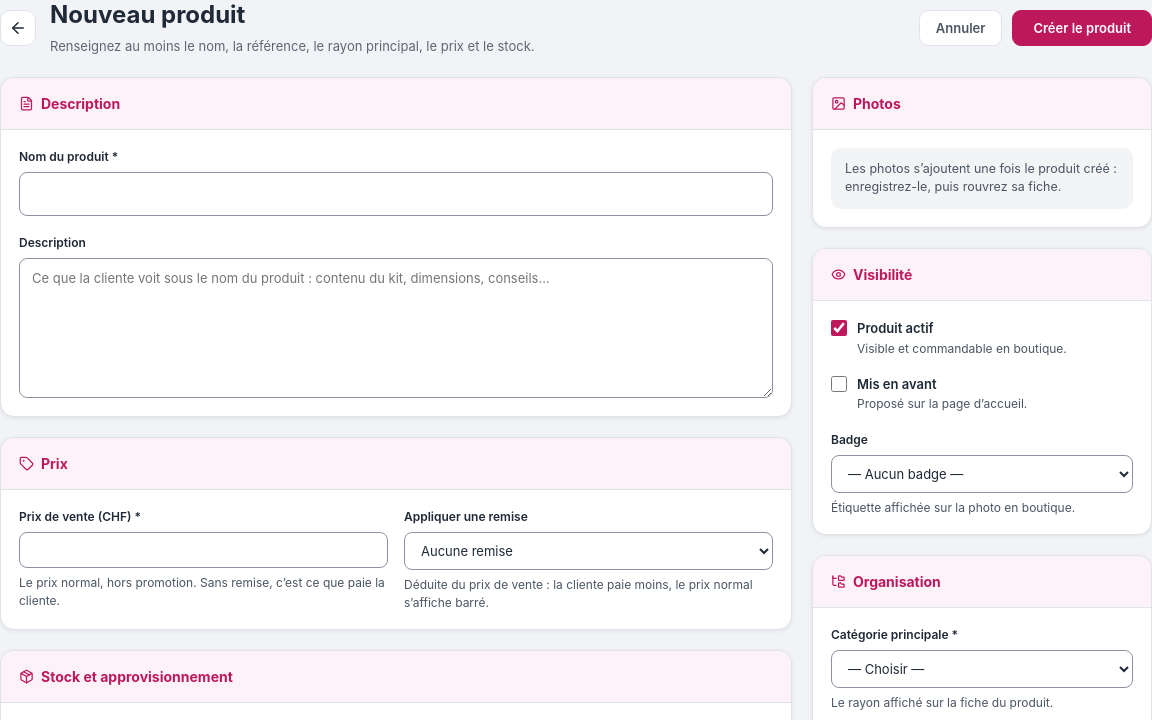
ProductForm — aperçu boutique › déduit le prix payé du prix de vente avec une réduction en montant fixe
The width and height of the screenshot is (1152, 720).
Type "100" into the number field labelled "Prix de vente (CHF) *" at (204, 550), box x1=19 y1=532 x2=388 y2=568
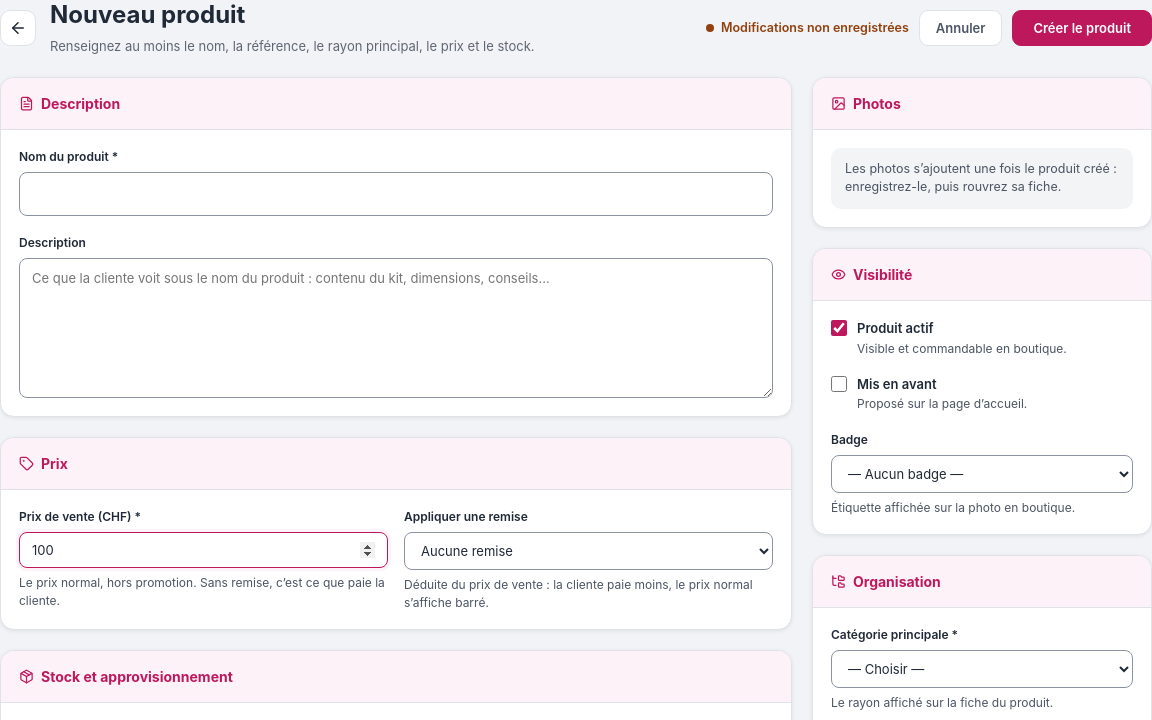
Select "Remise en CHF" in the dropdown labelled "Appliquer une remise" at (588, 551), box x1=404 y1=532 x2=773 y2=570
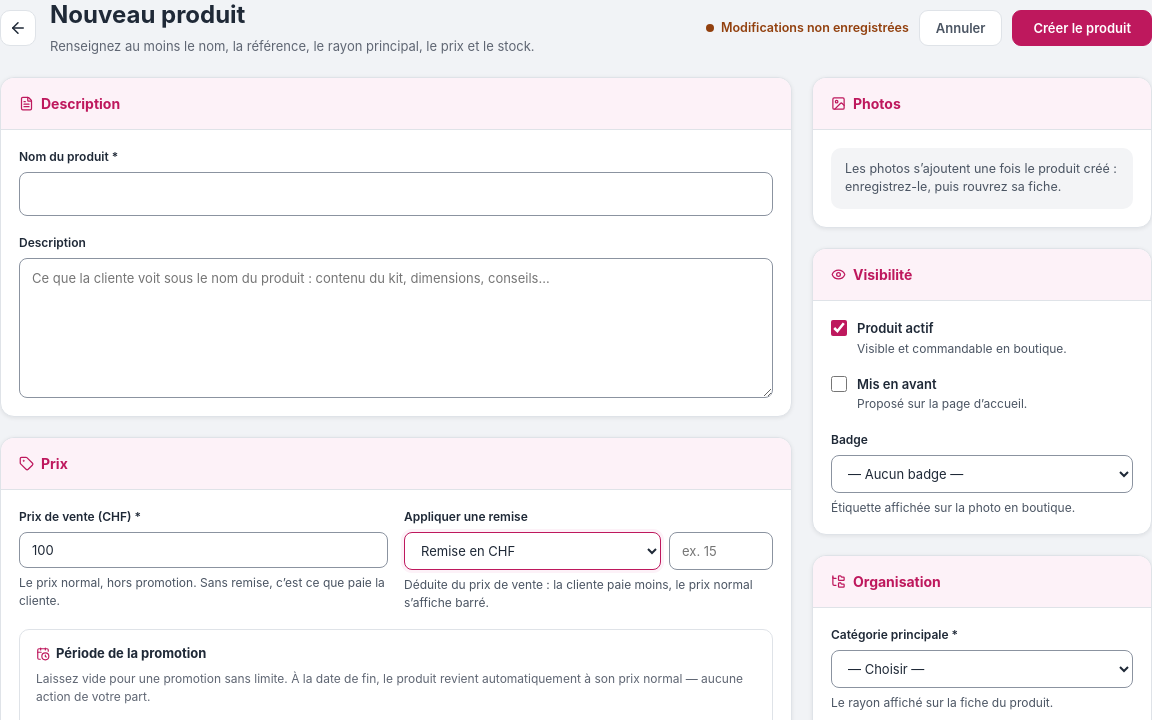
Type "15" into the number field named "Valeur de la réduction" at (721, 551), box x1=669 y1=532 x2=773 y2=570
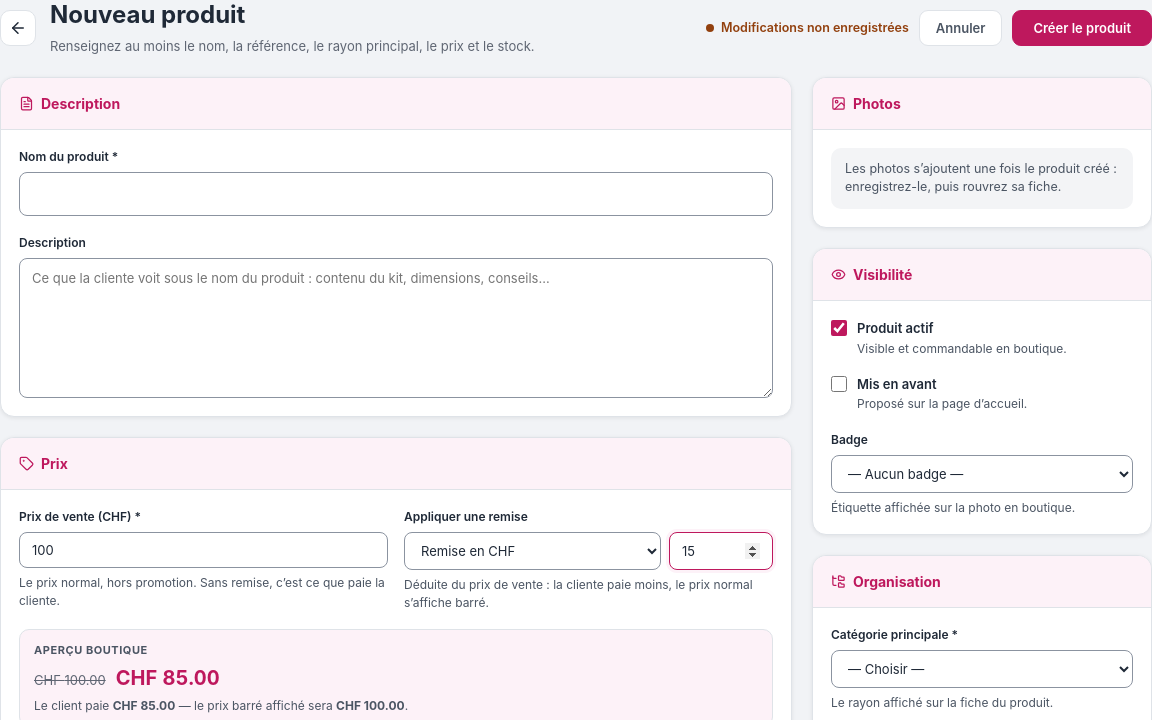
Expected: the 1st text "CHF 85.00" is shown, x1=116 y1=663 x2=220 y2=693
